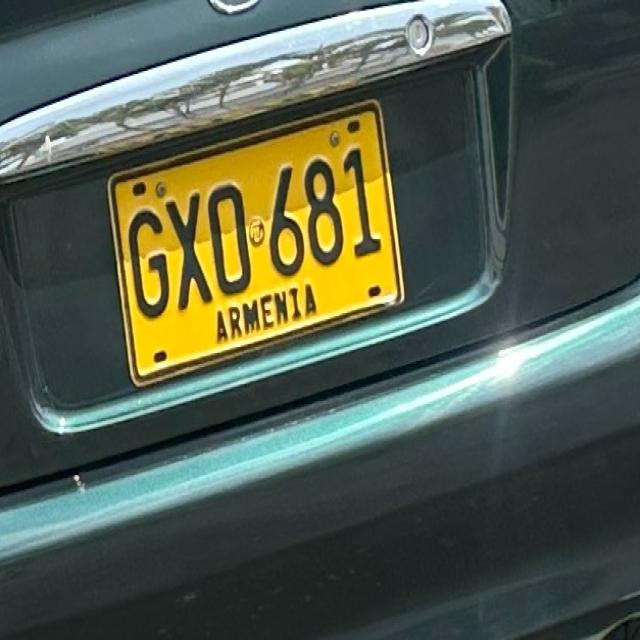number plate: (107, 100, 401, 382)
